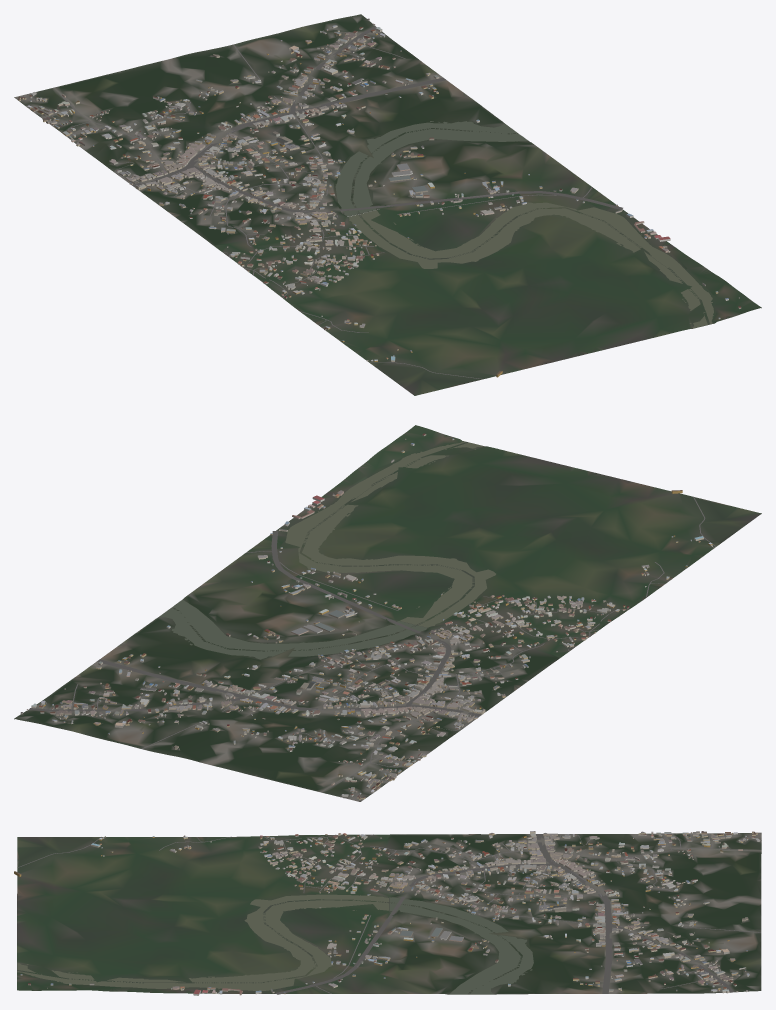
3 renders of one model, top to bottom at view 1: azimuth 30°, elevation 25°; view 2: azimuth 150°, elevation 25°; view 3: azimuth 270°, elevation 25°, orthographic. The views are drawn at different scales.
Visible parts, largest first — view 1: ground, buildings, water, roads; view 2: ground, buildings, water, roads; view 3: ground, buildings, water, roads.
Boxes of the visible parts, left/top/right/bottom form: ground: left=14, top=14, right=761, bottom=395; buildings: left=17, top=18, right=741, bottom=377; water: left=335, top=121, right=713, bottom=328; roads: left=16, top=26, right=656, bottom=379; ground: left=14, top=425, right=761, bottom=801; buildings: left=20, top=433, right=714, bottom=799; water: left=158, top=441, right=495, bottom=659; roads: left=29, top=496, right=716, bottom=800; ground: left=17, top=832, right=761, bottom=994; buildings: left=14, top=831, right=760, bottom=995; water: left=17, top=894, right=533, bottom=994; roads: left=17, top=833, right=761, bottom=994.
Bounding box in the file's own units: 1425 × 29.73 × 2815.
